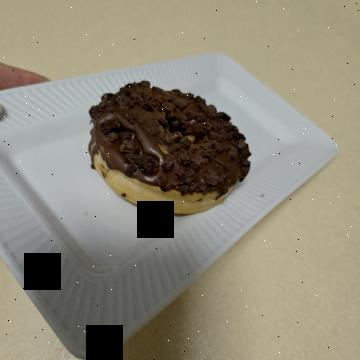doughnut: (76, 93, 231, 279)
